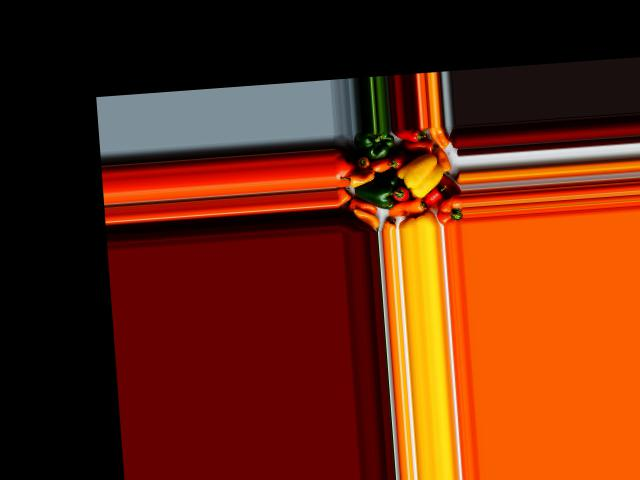bell_pepper: (395, 127, 428, 146)
